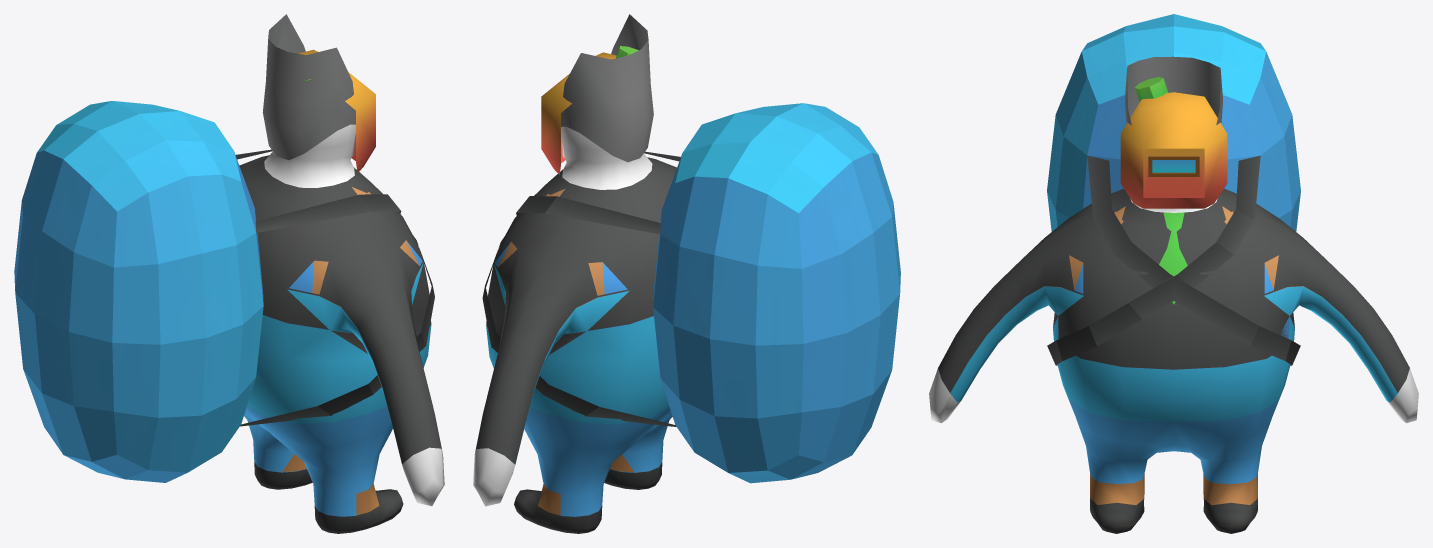
File: Characters.fbx
3 views of the same model, side by side, from view 1: azimuth 30°, elevation 25°; view 2: azimuth 150°, elevation 25°; view 3: azimuth 270°, elevation 25° (orthographic). The views are drawn at different scales.
Parts seen in each view (by area): view 1: Cube.002, Cube, Cube.001; view 2: Cube.002, Cube, Cube.001; view 3: Cube.002, Cube, Cube.001.
Boxes of the visible parts, x1=… form: Cube.002: x1=14, y1=14, x2=444, y2=533; Cube: x1=239, y1=79, x2=444, y2=525; Cube.001: x1=263, y1=49, x2=442, y2=519; Cube.002: x1=473, y1=14, x2=900, y2=533; Cube: x1=473, y1=46, x2=676, y2=525; Cube.001: x1=475, y1=52, x2=653, y2=512; Cube.002: x1=929, y1=14, x2=1418, y2=533; Cube: x1=929, y1=77, x2=1418, y2=525; Cube.001: x1=955, y1=92, x2=1392, y2=526.
Size of the model in its own units: 799 by 660 by 807.
